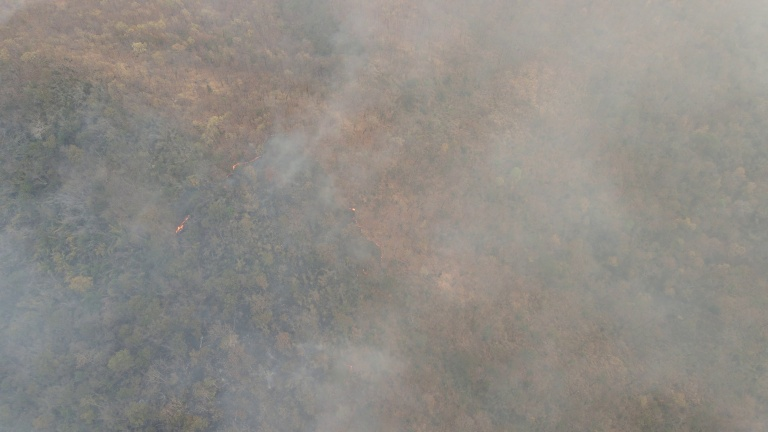fire: (217, 147, 272, 186), (347, 202, 379, 255), (169, 206, 213, 238)
smoke: (6, 193, 768, 431), (414, 1, 768, 192), (261, 1, 413, 194)
